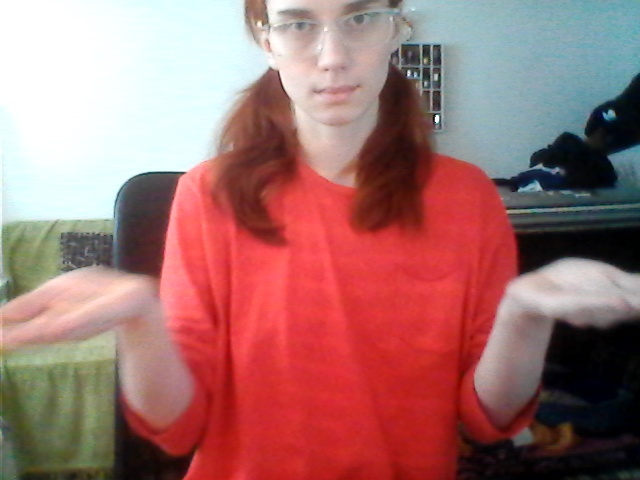alebo: (1, 249, 640, 414)
